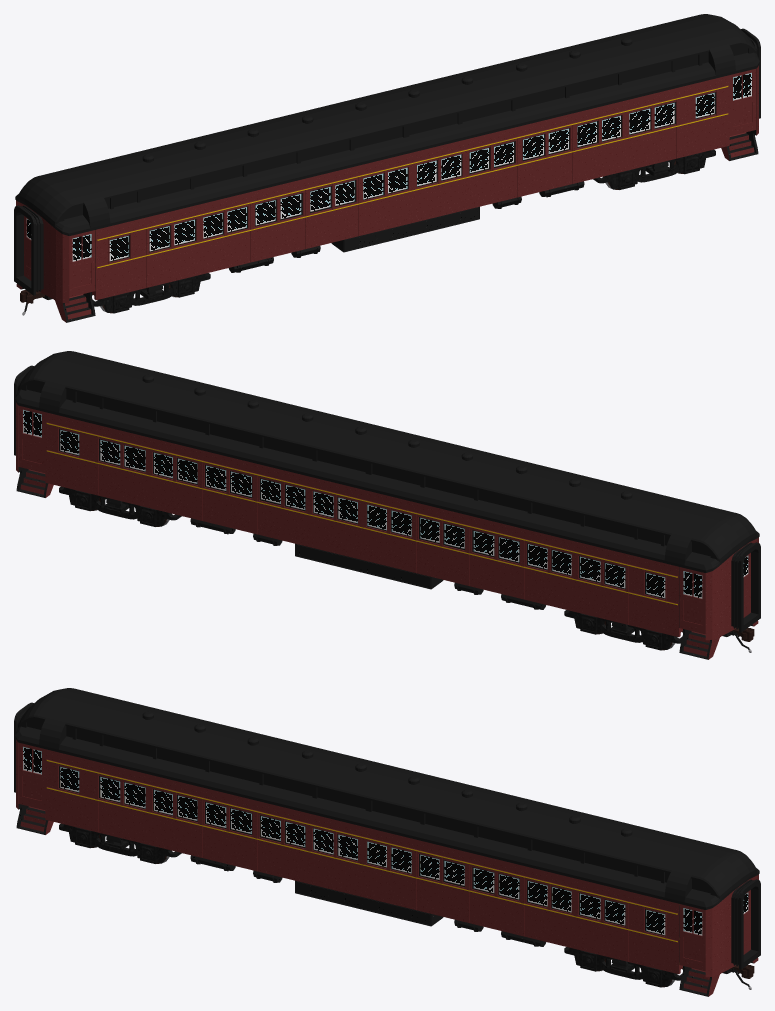
Rendered from p70coach1.obj.
3 views of the same model, one above another, from view 1: azimuth 30°, elevation 25°; view 2: azimuth 150°, elevation 25°; view 3: azimuth 330°, elevation 25° (orthographic).
Visible parts, largest first — view 1: SHELL.001_Cube.004, SHELL_Cube.056, FRAME_Cube.003, BOGEY_REAR_Cube.005, BOGEY_FRONT_Cube.006, EXTERNAL_DOOR_1_details.003_Cube.001, EXTERNAL_DOOR_4_details.003_Cube.007, Cylinder.008_Cylinder.044; view 2: SHELL.001_Cube.004, SHELL_Cube.056, FRAME_Cube.003, BOGEY_REAR_Cube.005, BOGEY_FRONT_Cube.006, EXTERNAL_DOOR_2_details.003_Cube.003, EXTERNAL_DOOR_3_details.003_Cube.005, Cylinder.008_Cylinder.044; view 3: SHELL.001_Cube.004, SHELL_Cube.056, FRAME_Cube.003, BOGEY_FRONT_Cube.006, BOGEY_REAR_Cube.005, EXTERNAL_DOOR_4_details.003_Cube.007, EXTERNAL_DOOR_1_details.003_Cube.001, Cylinder.008_Cylinder.044.
Part boxes in pixels (<box>): SHELL.001_Cube.004: <box>15,14,759,235</box>; SHELL_Cube.056: <box>14,28,760,297</box>; FRAME_Cube.003: <box>16,128,758,322</box>; BOGEY_REAR_Cube.005: <box>593,149,715,189</box>; BOGEY_FRONT_Cube.006: <box>92,273,210,313</box>; EXTERNAL_DOOR_1_details.003_Cube.001: <box>69,230,95,297</box>; EXTERNAL_DOOR_4_details.003_Cube.007: <box>729,69,755,135</box>; Cylinder.008_Cylinder.044: <box>142,37,632,162</box>; SHELL.001_Cube.004: <box>15,351,759,572</box>; SHELL_Cube.056: <box>14,365,760,634</box>; FRAME_Cube.003: <box>16,465,758,659</box>; BOGEY_REAR_Cube.005: <box>59,486,181,526</box>; BOGEY_FRONT_Cube.006: <box>564,610,682,650</box>; EXTERNAL_DOOR_2_details.003_Cube.003: <box>679,567,705,634</box>; EXTERNAL_DOOR_3_details.003_Cube.005: <box>19,406,45,472</box>; Cylinder.008_Cylinder.044: <box>142,374,632,499</box>; SHELL.001_Cube.004: <box>15,688,759,909</box>; SHELL_Cube.056: <box>14,702,760,971</box>; FRAME_Cube.003: <box>16,802,758,996</box>; BOGEY_FRONT_Cube.006: <box>59,823,181,863</box>; BOGEY_REAR_Cube.005: <box>564,947,682,987</box>; EXTERNAL_DOOR_4_details.003_Cube.007: <box>679,904,705,971</box>; EXTERNAL_DOOR_1_details.003_Cube.001: <box>19,743,45,809</box>; Cylinder.008_Cylinder.044: <box>142,711,632,836</box>.
Size of the model in its own units: 25.63 by 4.6 by 3.12.
